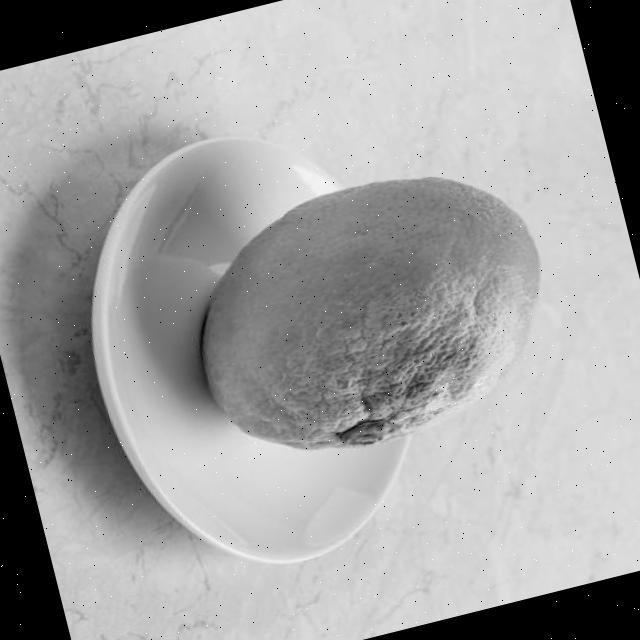Rotten: (166, 145, 578, 482)
